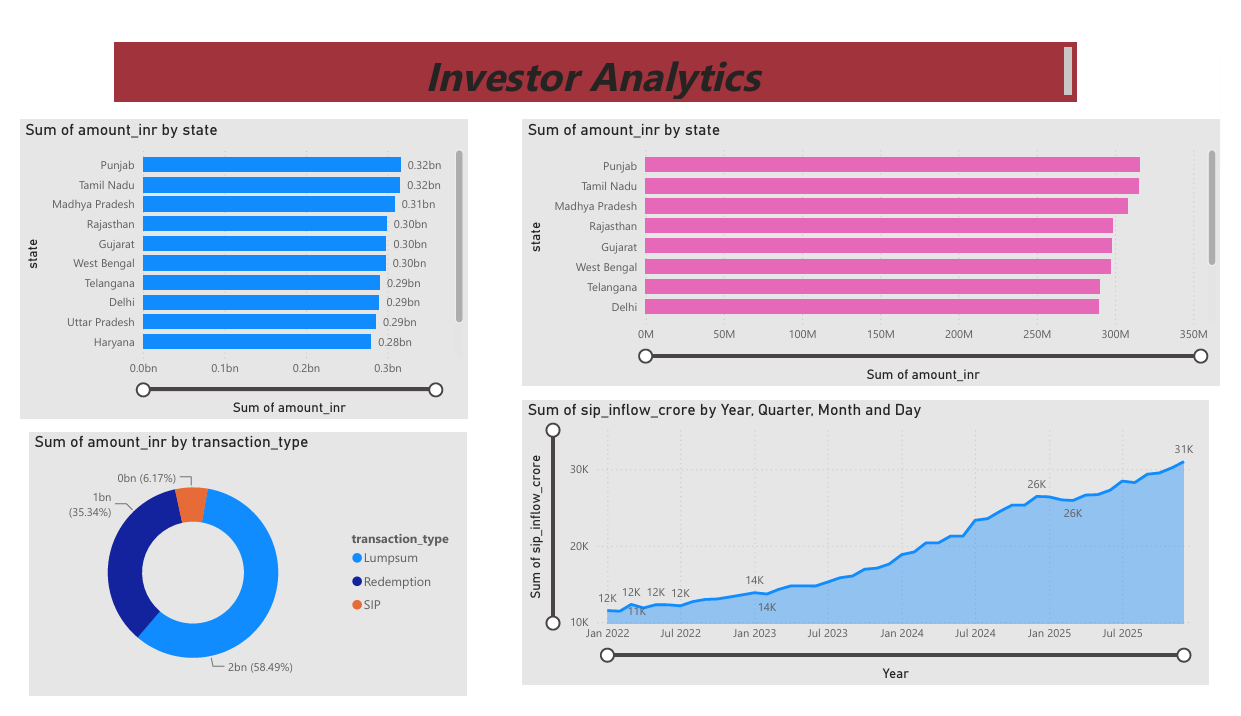

The page's visual inventory and layout, read from the dashboard file:
{"tool":"powerbi","page":{"name":"Investor Analytics","canvas":[1280,720],"ordinal":2},"visuals":[{"type":"clusteredBarChart","fields":{"Category":["08_investor_transactions.state"],"Y":["Sum(08_investor_transactions.amount_inr)"]},"box":[0,106.4,476.9,319.2],"z":0},{"type":"donutChart","fields":{"Category":["08_investor_transactions.transaction_type"],"Y":["Sum(08_investor_transactions.amount_inr)"]},"box":[9.8,439,467.1,281.3],"z":1000},{"type":"clusteredBarChart","fields":{"Category":["08_investor_transactions.state"],"Y":["Sum(08_investor_transactions.amount_inr)"]},"box":[535.6,106.4,744.7,283.7],"z":2000},{"type":"lineChart","fields":{"Y":["Sum(04_monthly_sip_inflows.sip_inflow_crore)"],"Category":["04_monthly_sip_inflows.month.Variation.Date Hierarchy.Year","04_monthly_sip_inflows.month.Variation.Date Hierarchy.Quarter","04_monthly_sip_inflows.month.Variation.Date Hierarchy.Month","04_monthly_sip_inflows.month.Variation.Date Hierarchy.Day"]},"box":[535.6,404.8,732.5,304.5],"z":3000},{"type":"textbox","box":[100.3,24.5,1027.2,63.6],"z":4000}]}

Visuals, with their boxes in screenshot pixels (x1, y1, x2, y2), scaled from the page's 1280x720 canvas onto the 1241x716 screenshot:
clusteredBarChart - 08_investor_transactions.state x Sum(08_investor_transactions.amount_inr): [0, 106, 462, 423]
donutChart - 08_investor_transactions.transaction_type x Sum(08_investor_transactions.amount_inr): [10, 437, 462, 715]
clusteredBarChart - 08_investor_transactions.state x Sum(08_investor_transactions.amount_inr): [519, 106, 1240, 388]
lineChart - Sum(04_monthly_sip_inflows.sip_inflow_crore) x 04_monthly_sip_inflows.month.Variation.Date Hierarchy.Year: [519, 403, 1229, 705]
textbox: [97, 24, 1093, 88]
